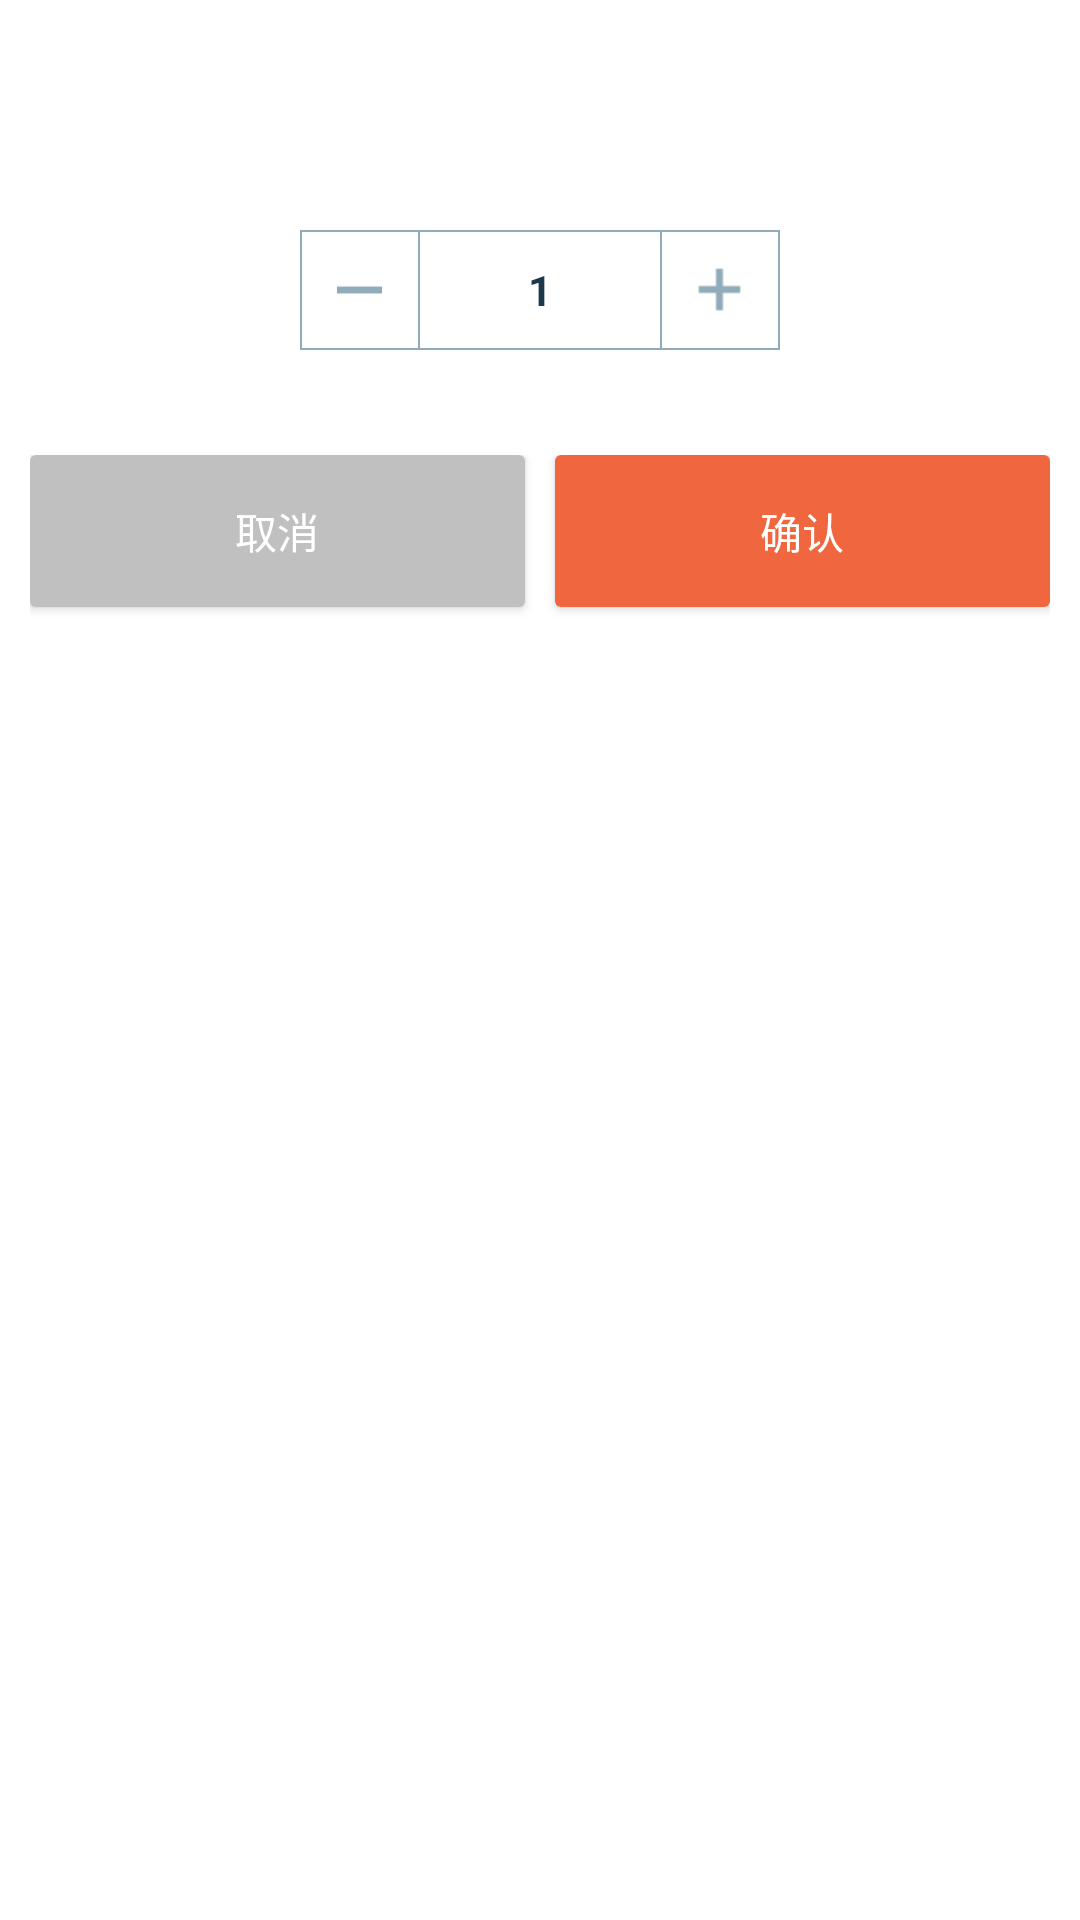

Icon click points for this 1080w x 1920h phone screenshot, format [x,y]:
add product: [719,289]
delete product: [359,290]
